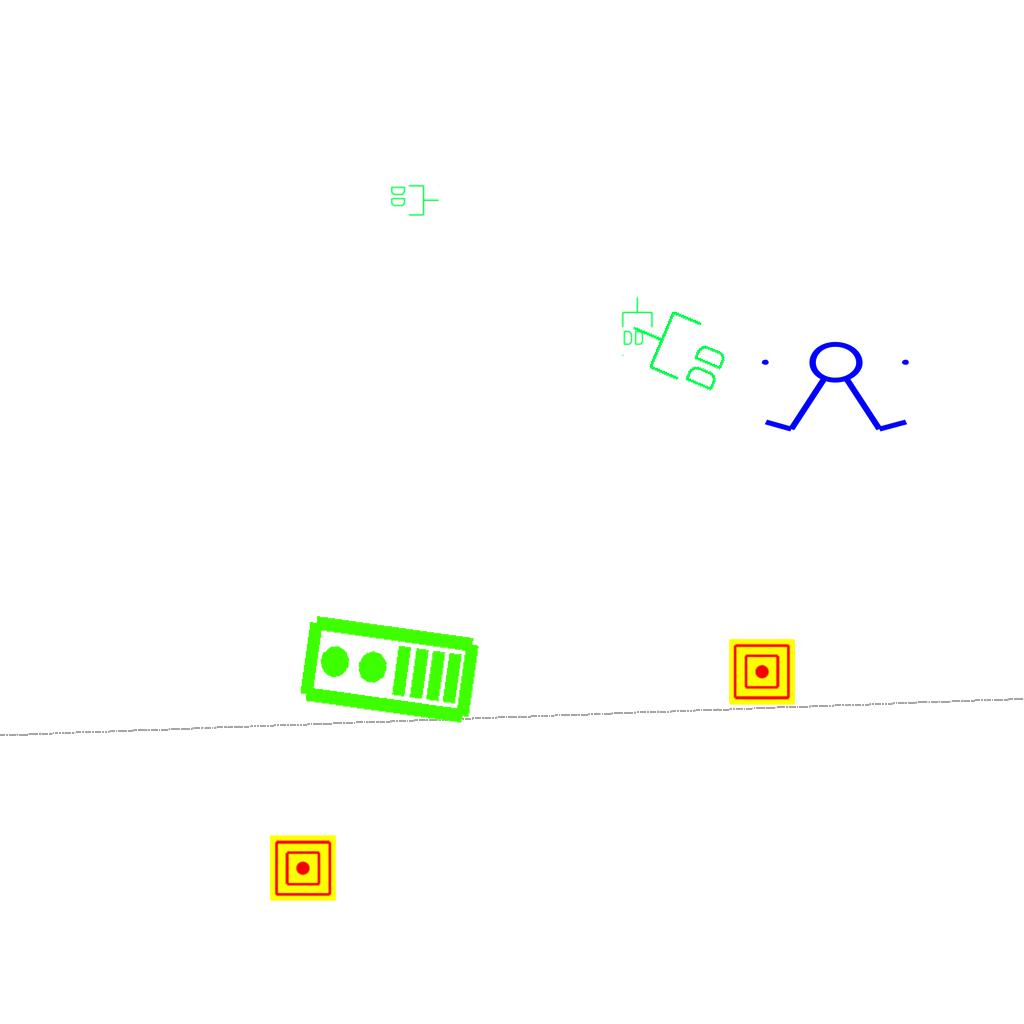Datenanschluss_zweifach: (617, 295, 740, 400), (389, 183, 440, 217), (620, 296, 654, 347)
Gegensprechanlage_mit_Video: (294, 611, 483, 731)
NAM-Nichtautomatischer_Melder: (729, 639, 795, 705), (270, 835, 336, 901)
Serienschalter: (753, 340, 921, 436)
